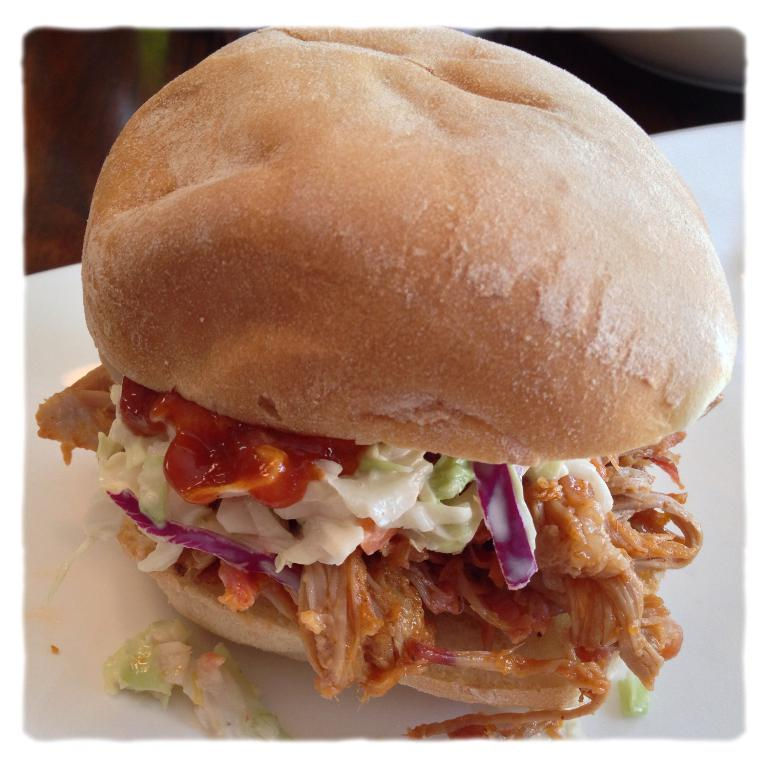Hamburger: (34, 29, 734, 740)
